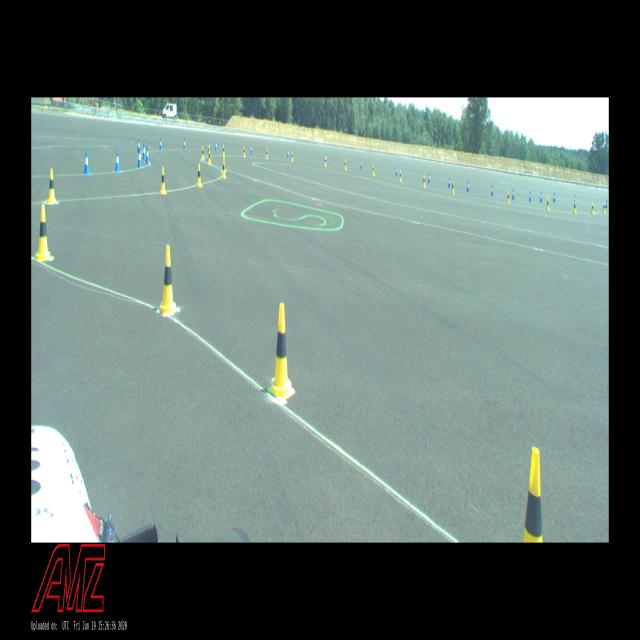blue_cone: (84, 151, 90, 173), (114, 151, 120, 171), (137, 150, 142, 167), (146, 147, 150, 163), (142, 144, 146, 160), (137, 139, 140, 152), (250, 144, 253, 154), (553, 192, 556, 202), (183, 140, 186, 149), (215, 141, 218, 150), (160, 138, 162, 150), (512, 188, 514, 200), (448, 177, 450, 188), (491, 185, 493, 196), (540, 192, 542, 202), (467, 181, 469, 191), (530, 191, 532, 201), (396, 166, 398, 176), (428, 173, 430, 183), (288, 149, 290, 158), (360, 161, 362, 168)
yellow_cone: (267, 303, 295, 400), (523, 447, 543, 542), (160, 245, 176, 313), (36, 204, 52, 260), (47, 168, 57, 203), (160, 167, 166, 193), (197, 164, 202, 187), (222, 162, 226, 178), (222, 157, 226, 171), (507, 191, 510, 204), (208, 151, 211, 164), (591, 202, 594, 214), (546, 198, 549, 210), (451, 182, 454, 194), (208, 144, 211, 156), (399, 170, 402, 181), (243, 146, 246, 157), (222, 145, 225, 156), (344, 159, 347, 169), (324, 156, 327, 166), (202, 146, 204, 159), (423, 175, 425, 187), (372, 164, 374, 175), (574, 202, 576, 213), (603, 202, 605, 213), (266, 148, 268, 158), (292, 152, 294, 161)
